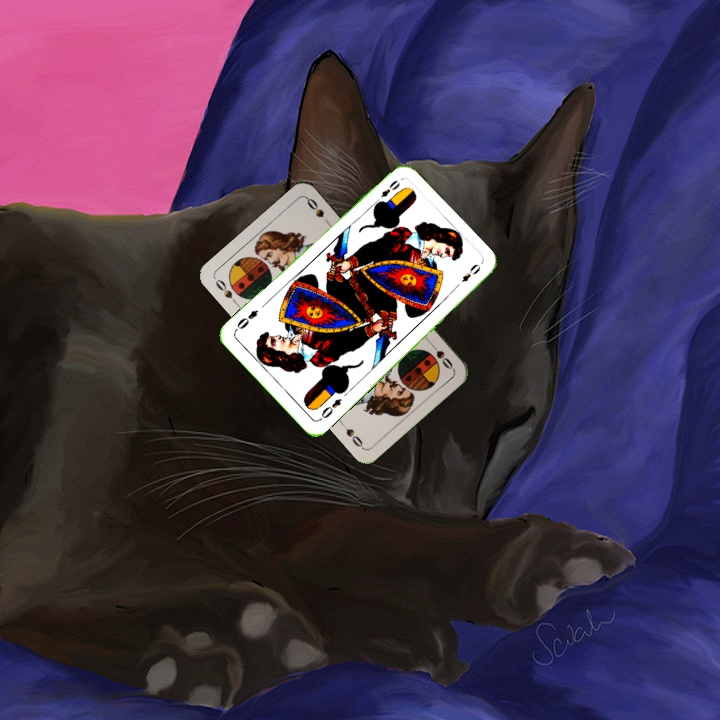EO: (370, 176, 403, 207), (315, 394, 344, 423)
SO: (425, 337, 455, 372), (211, 275, 241, 308)
